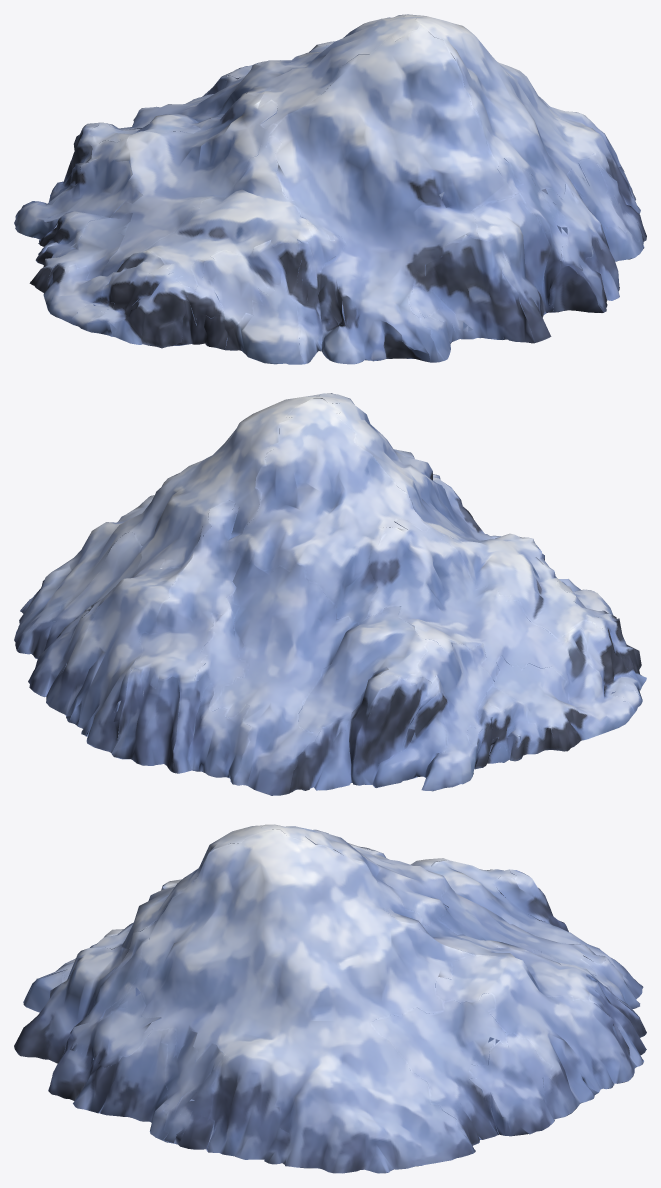
The model's file is MTN_peak_3.glb.
The picture shows the model from 3 angles, top to bottom: view 1: azimuth 30°, elevation 25°; view 2: azimuth 150°, elevation 25°; view 3: azimuth 270°, elevation 25°; orthographic projection.
Parts seen in each view (by area): view 1: geometry_0; view 2: geometry_0; view 3: geometry_0.
Part boxes in pixels (x1,y1,x2,y2): geometry_0: (14,14,646,364); geometry_0: (14,393,646,795); geometry_0: (14,824,646,1173).
Size of the model in its own units: 0.957 by 0.3628 by 0.905.
Materials: 1 (1 with a texture image).
